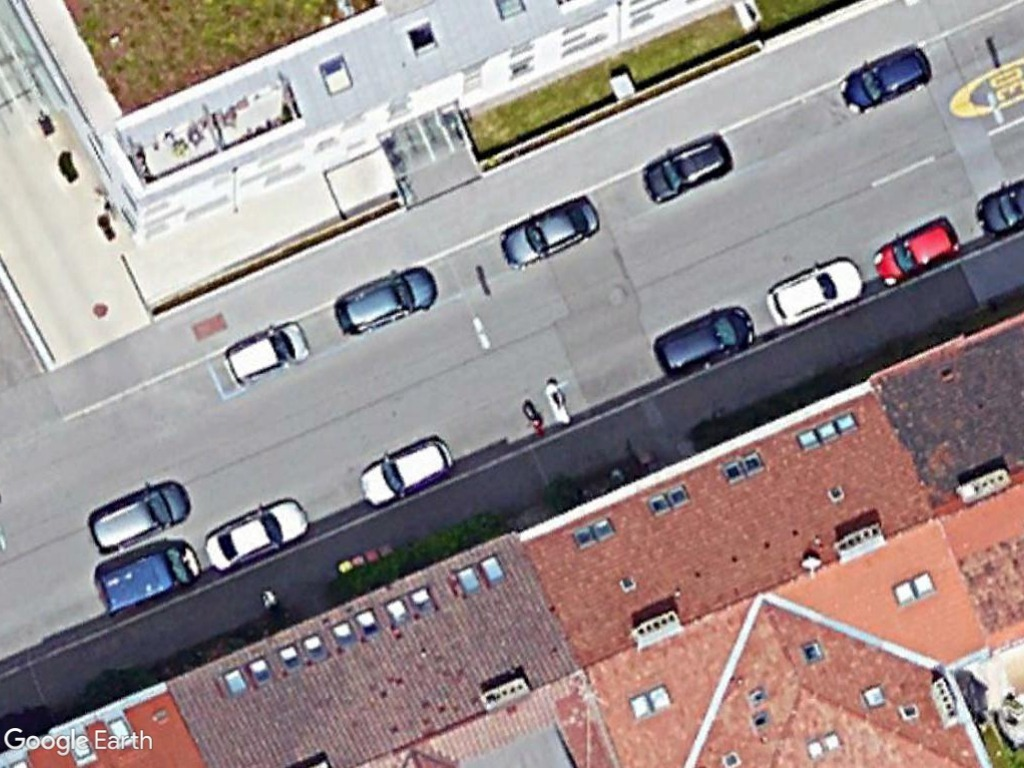car: (200, 489, 316, 579), (331, 258, 441, 340), (651, 300, 755, 384), (87, 474, 192, 557), (353, 429, 458, 512), (762, 248, 867, 331), (633, 128, 736, 208), (496, 192, 603, 268), (217, 313, 314, 392), (833, 45, 935, 119), (869, 211, 965, 289)
van: (93, 537, 198, 620)
